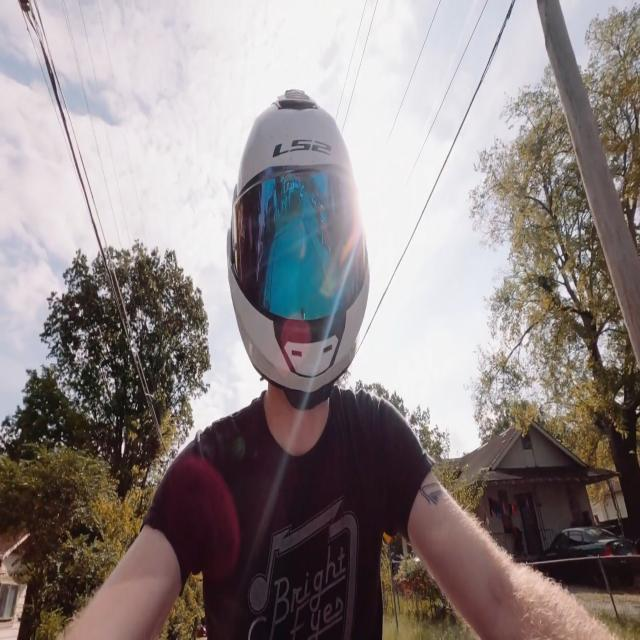Helmet_Wearer: (212, 78, 377, 424)
Person: (76, 76, 526, 640)
